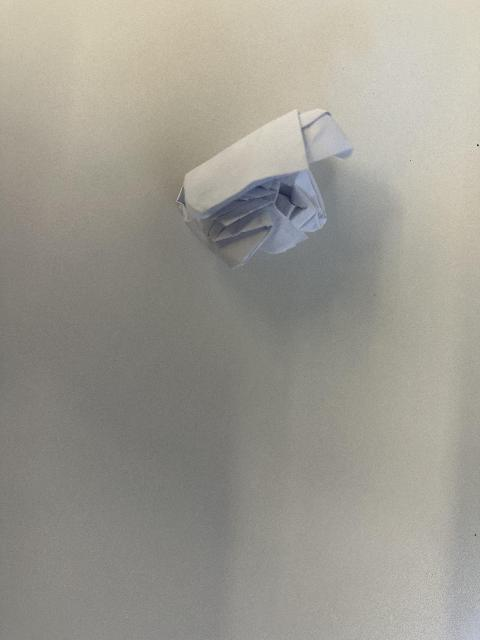Kagit: (138, 90, 373, 270)
